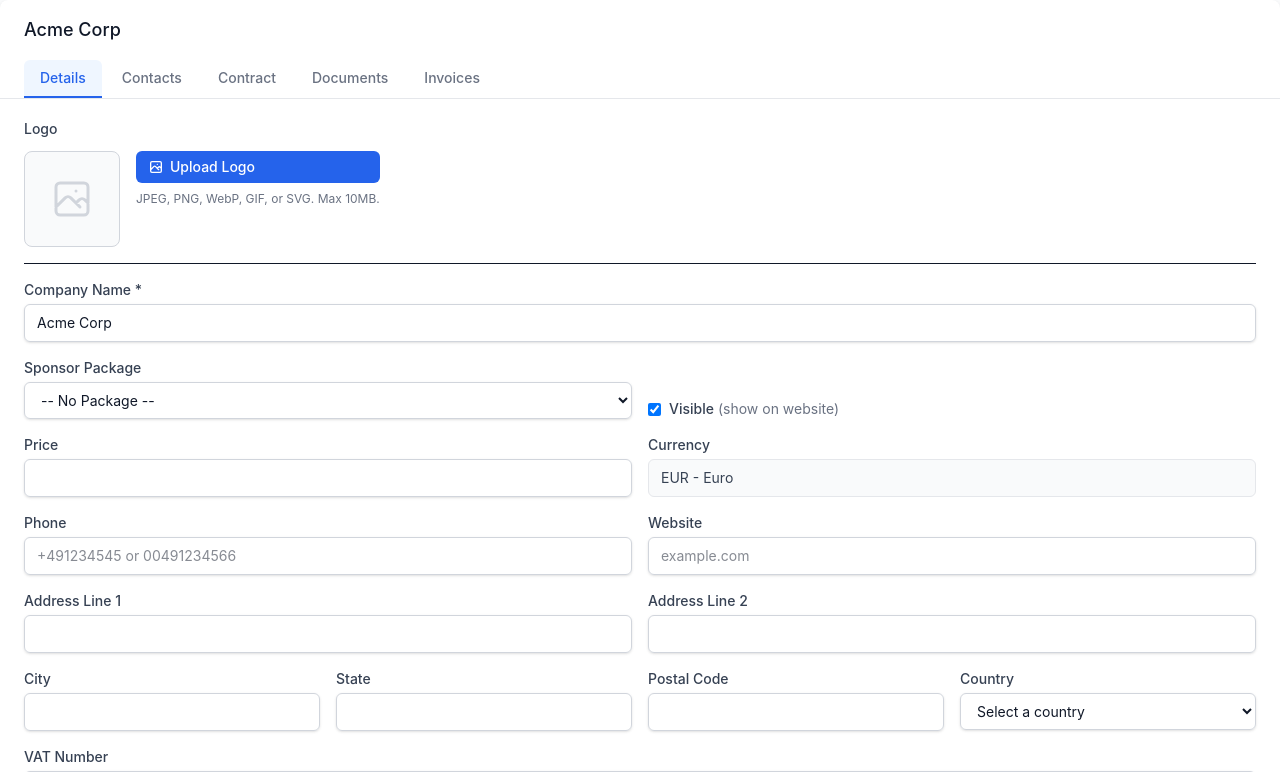
SponsorDetailPanel › package change › auto-fills price when package is selected and price is empty
This screenshot has width=1280, height=772.
Select "Gold" in the dropdown showing "-- No Package --" below "Sponsor Package" at (328, 400), box [24,382,632,419]
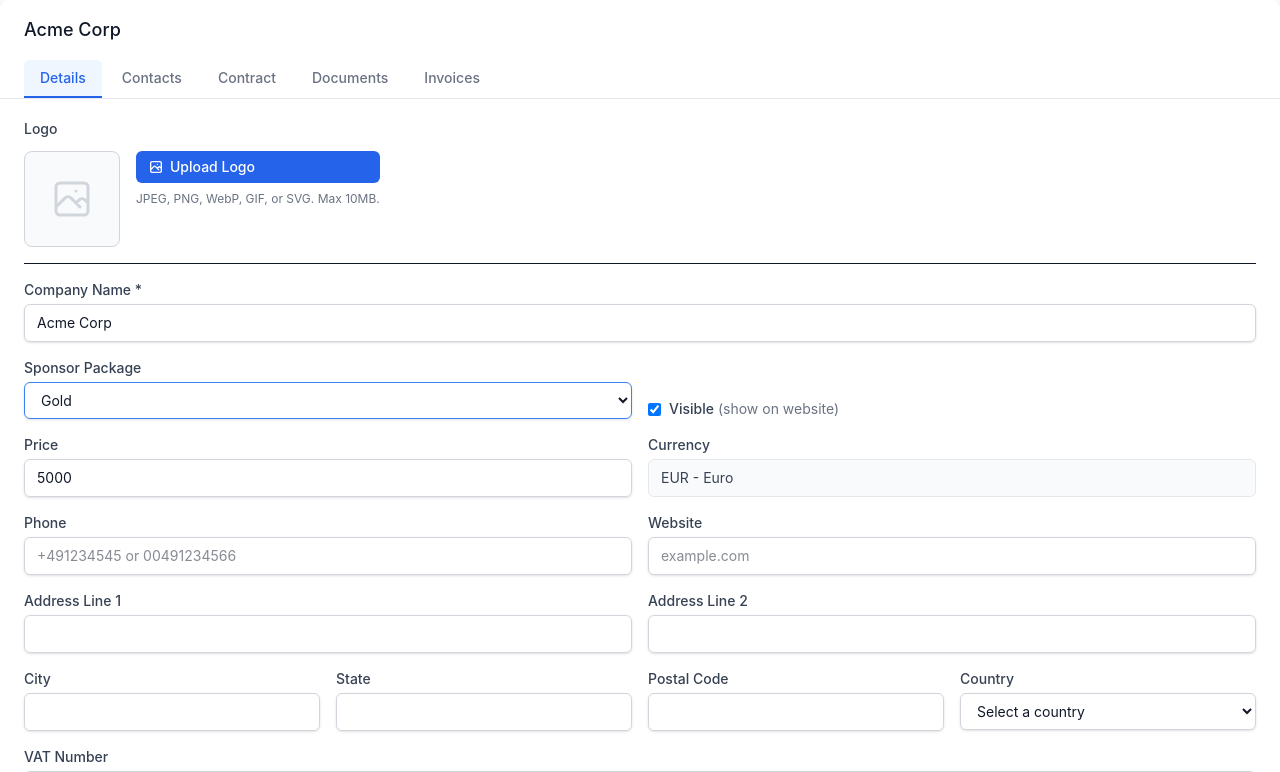
Expected: the number field showing "5000" is shown, [24,459,632,497]
